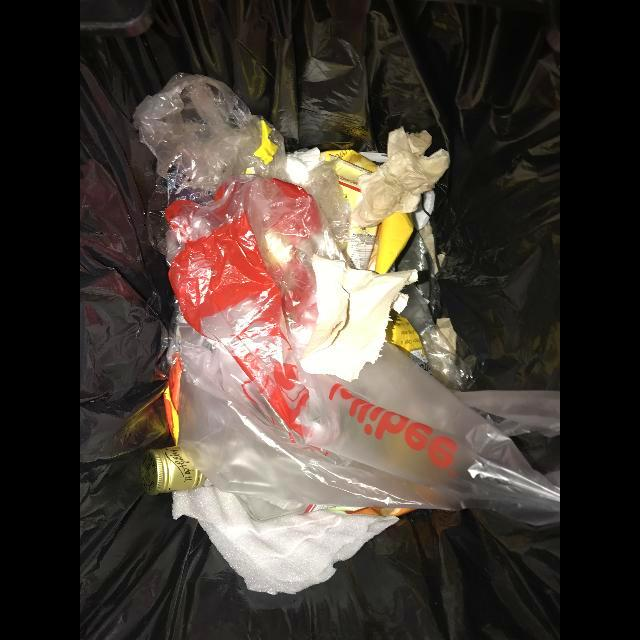food_wrapper: (320, 150, 413, 275), (385, 317, 430, 372)
paper: (300, 254, 418, 383), (347, 127, 451, 231)
plastic_bag: (135, 72, 560, 556), (392, 283, 478, 394)
